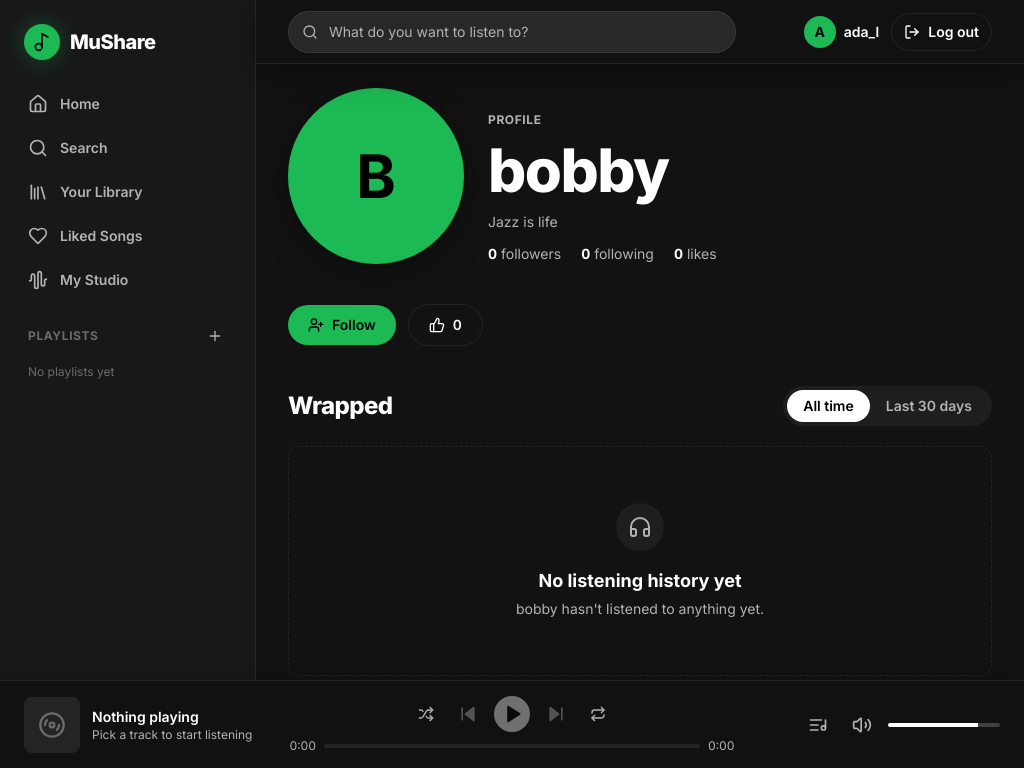
Test case: profile page › rolls a failed follow back and explains
The image size is (1024, 768).
Expected: the heading "bobby" is shown, [488,134,668,206]
Click the button with aria-label "Follow bobby".
click(342, 325)  # box [288,305,396,345]
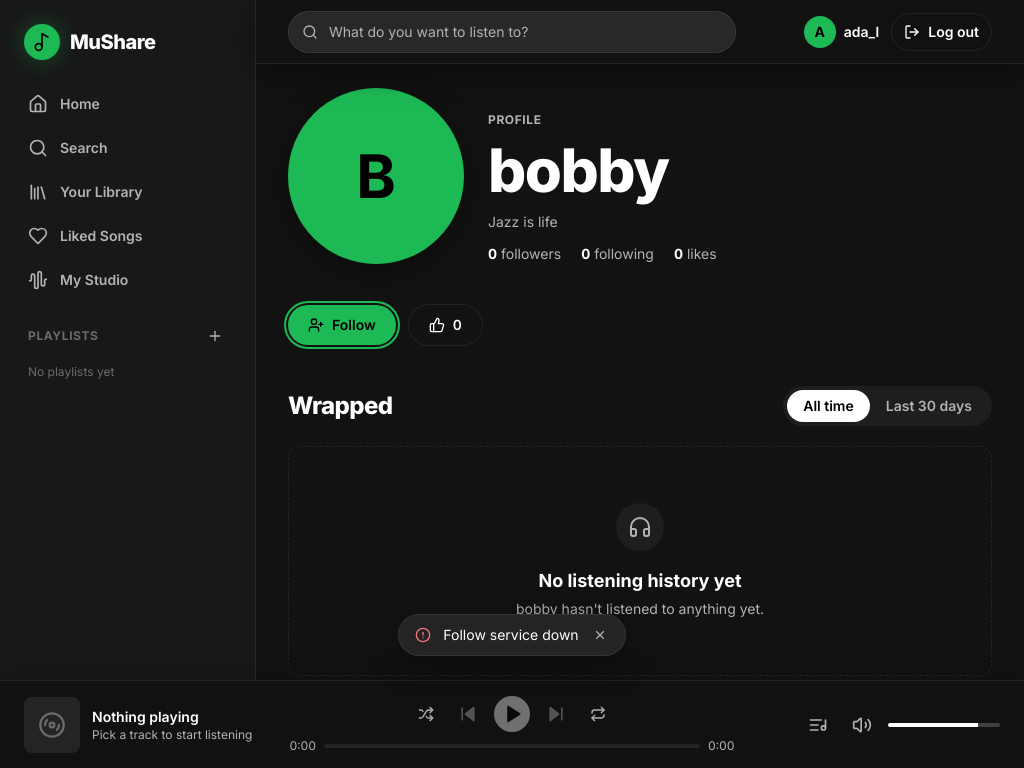
Expected: the link "0 followers" is shown, [488,244,561,264]
Expected: the text "Follow service down" is shown, [443,625,579,645]
